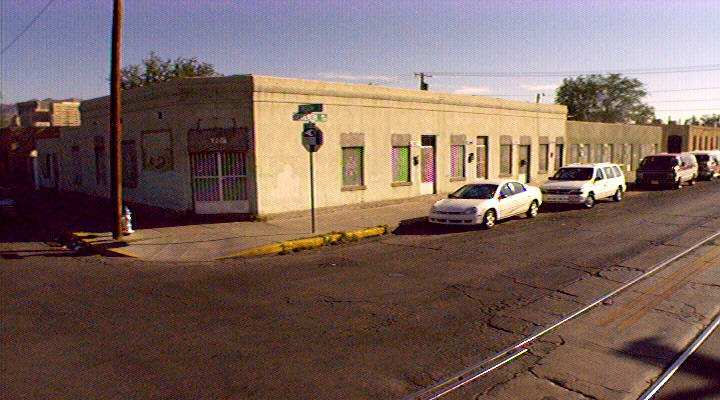Ramp: (120, 223, 256, 267)
